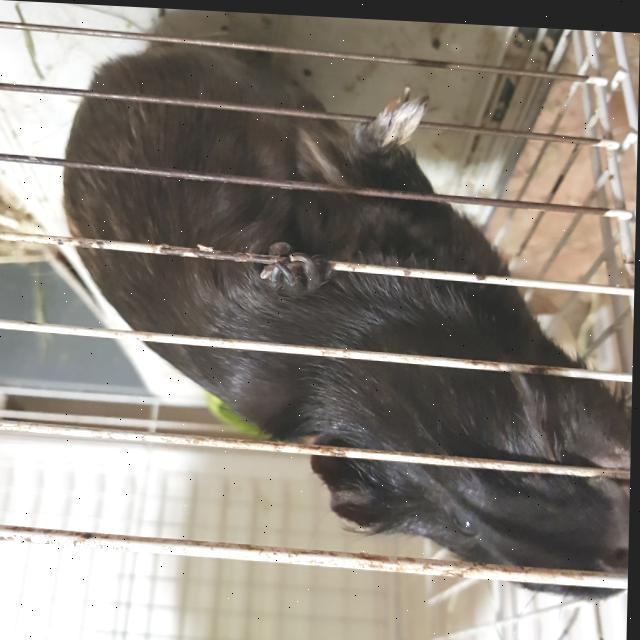guinea pig: (54, 34, 639, 599)
